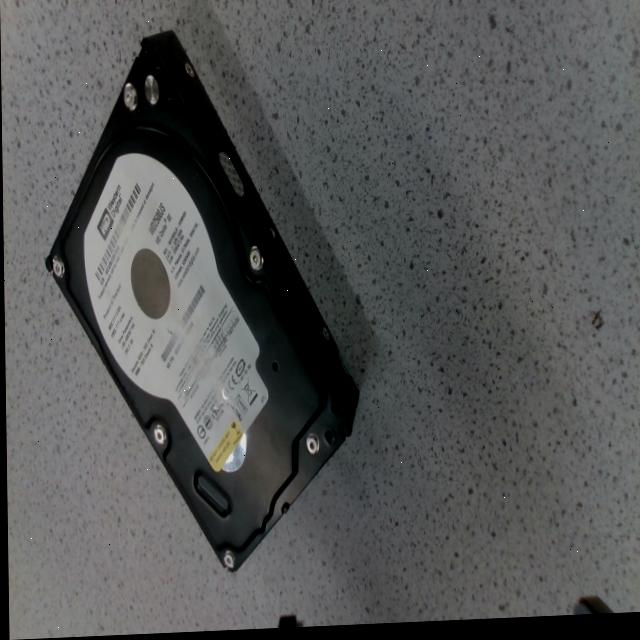case: (142, 32, 356, 425)
label: (83, 155, 266, 460)
lid: (46, 59, 344, 570)
screw: (124, 84, 136, 111), (249, 248, 262, 272), (221, 551, 234, 573), (152, 425, 165, 445), (304, 437, 317, 456), (52, 256, 63, 278)
